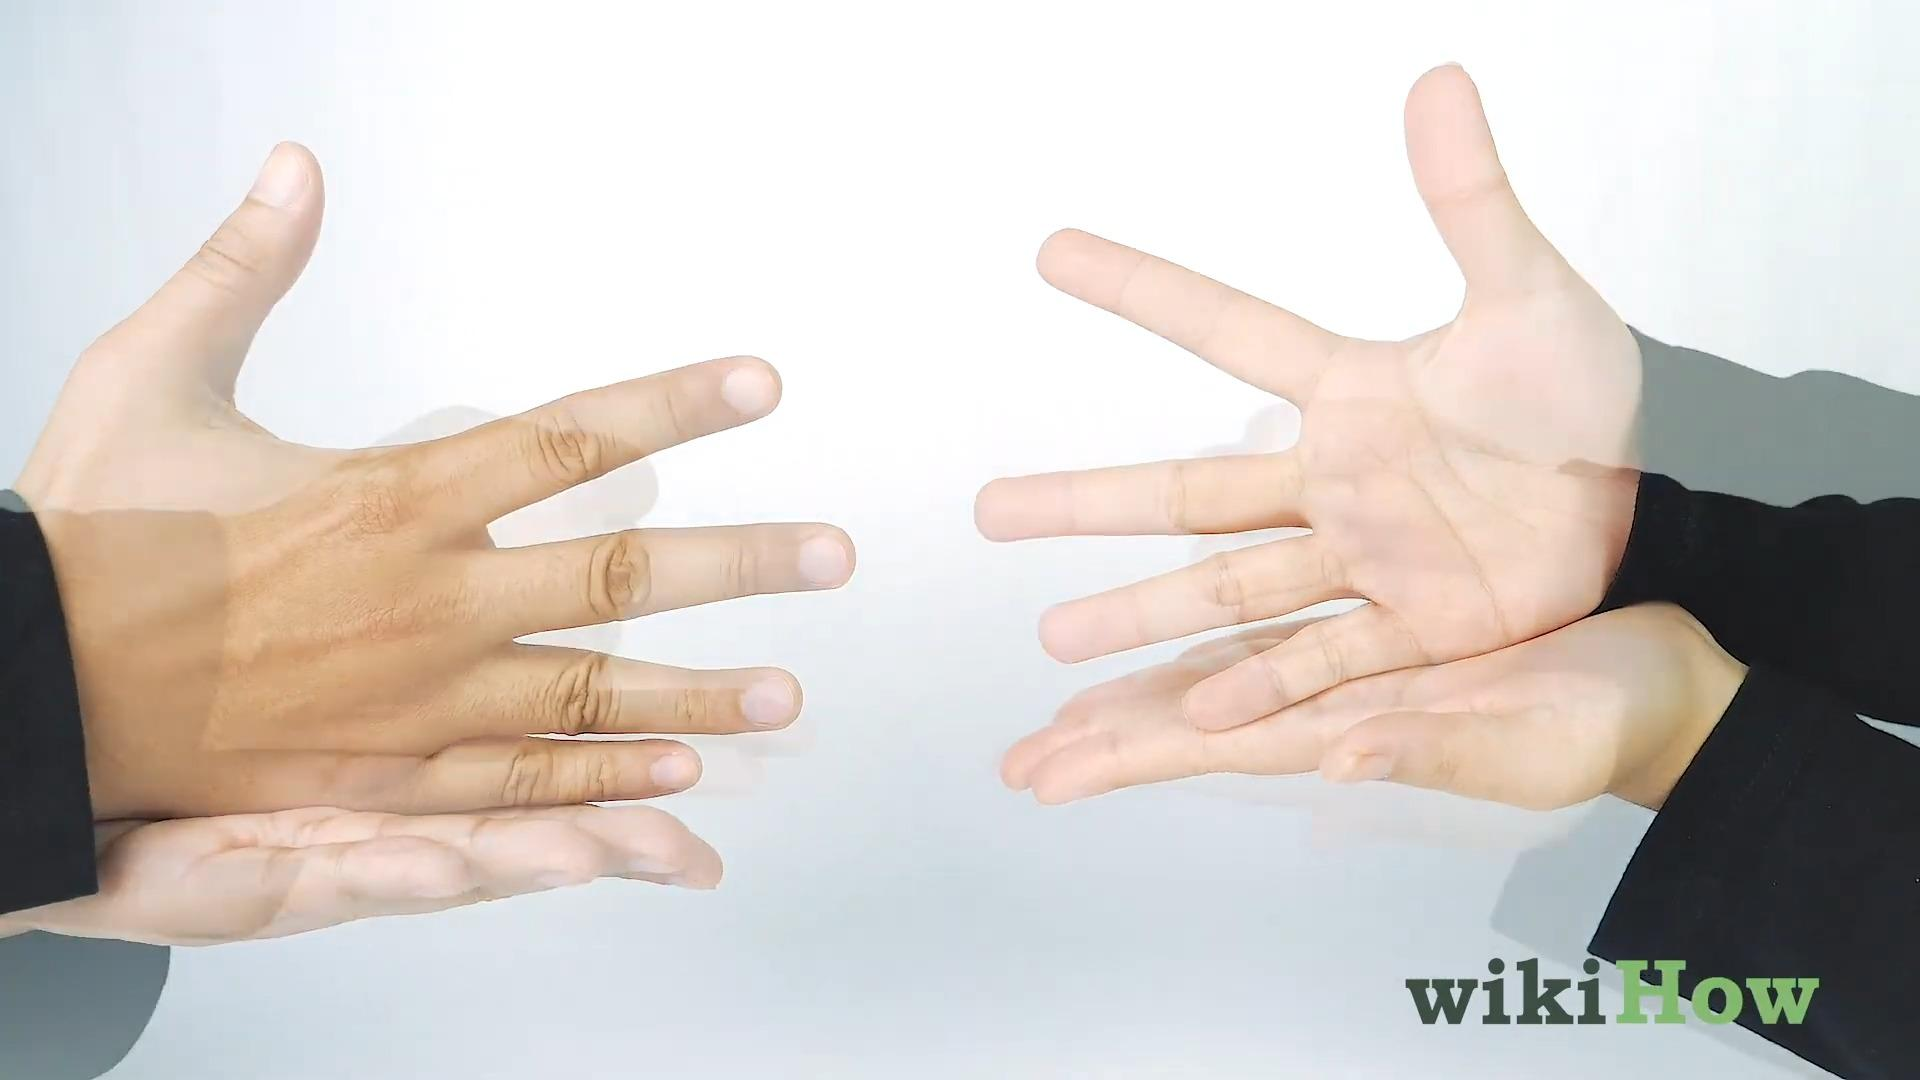Paper: (22, 135, 862, 822), (977, 62, 1646, 733)
